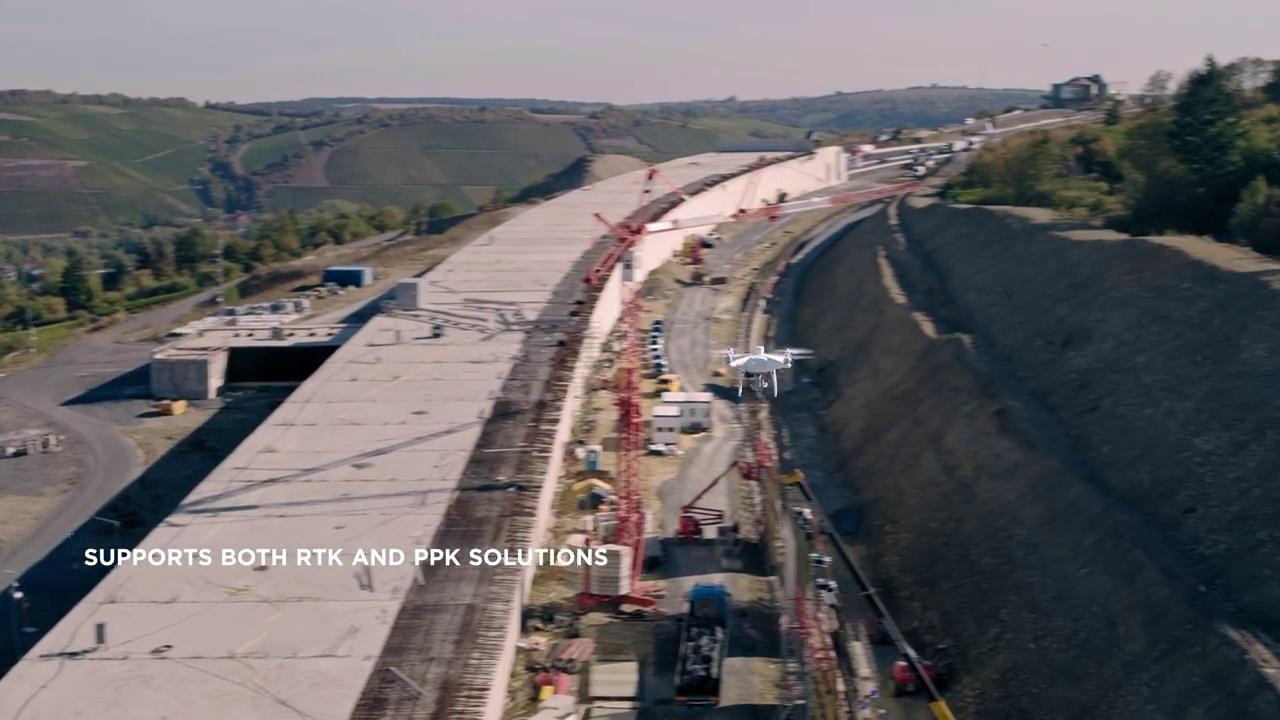drone: (703, 341, 822, 398)
